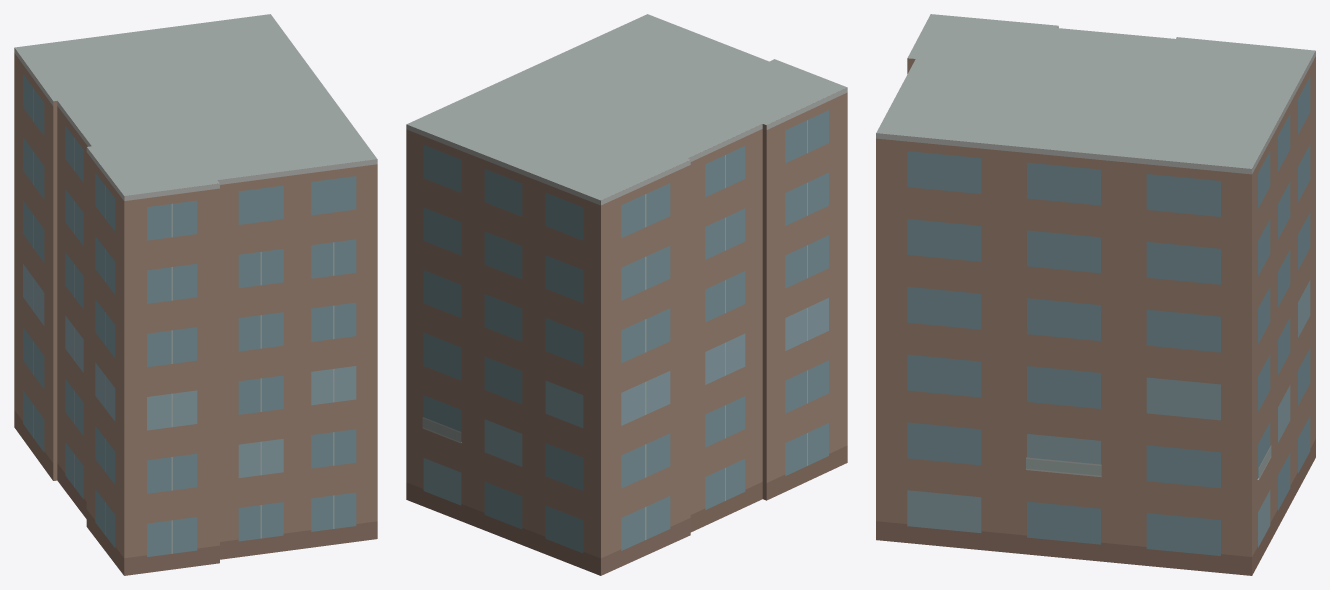
The model's file is survey-upis-33044057.glb.
3 renders of one model, left to right at view 1: azimuth 30°, elevation 25°; view 2: azimuth 150°, elevation 25°; view 3: azimuth 270°, elevation 25°, orthographic. The views are drawn at different scales.
Parts seen in each view (by area): view 1: survey-upis-33044057.tmp; view 2: survey-upis-33044057.tmp; view 3: survey-upis-33044057.tmp.
Boxes of the visible parts, left/top/right/bottom form: survey-upis-33044057.tmp: left=14, top=14, right=377, bottom=575; survey-upis-33044057.tmp: left=406, top=14, right=847, bottom=575; survey-upis-33044057.tmp: left=876, top=14, right=1315, bottom=575.
Bounding box in the file's own units: 14.96 × 18.3 × 17.93.
